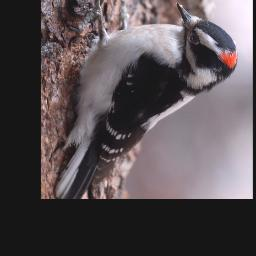Woodpecker: (52, 0, 242, 197)
